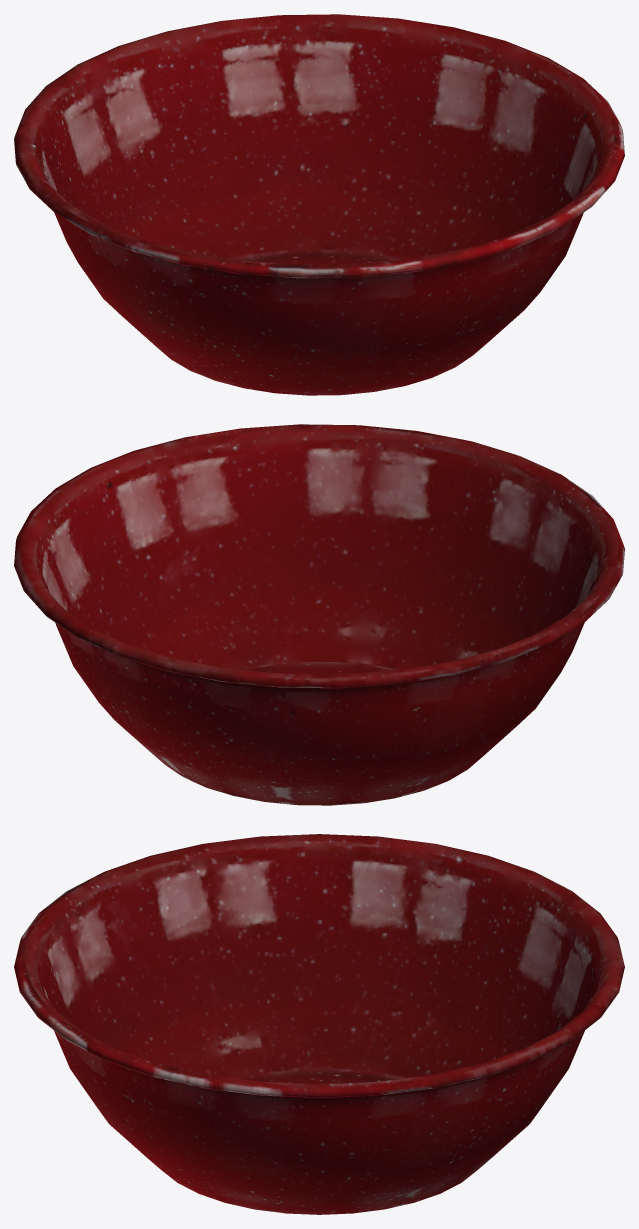
File: 024_bowl.dae
The picture shows the model from 3 angles, top to bottom: view 1: azimuth 30°, elevation 25°; view 2: azimuth 150°, elevation 25°; view 3: azimuth 270°, elevation 25°; orthographic projection.
Parts seen in each view (by area): view 1: 024_bowl; view 2: 024_bowl; view 3: 024_bowl.
Part boxes in pixels (left/top/right/bottom): 024_bowl: left=14, top=14, right=624, bottom=395; 024_bowl: left=14, top=424, right=624, bottom=805; 024_bowl: left=14, top=834, right=624, bottom=1214.
Bounding box in the file's own units: 0.1629 × 0.1629 × 0.0548.
Materials: 1 (1 with a texture image).
